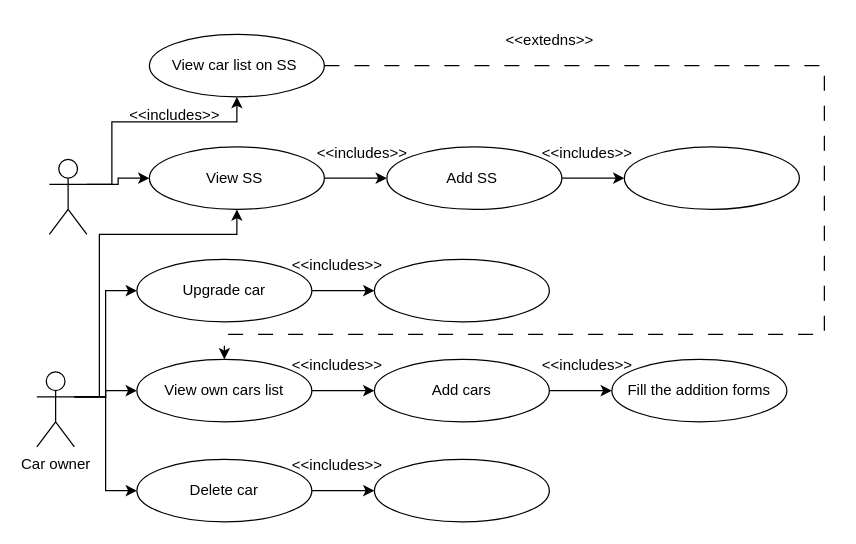
The diagram is 856 pixels wide and 544 high, and some of its shapes have lost their labels. Each missing label, with the centre of its shape:
Fill confirmation form: (x=461, y=490)
Fill the form of SS: (x=711, y=177)
SS owner: (x=67, y=196)
Upgrade data in form: (x=461, y=290)
